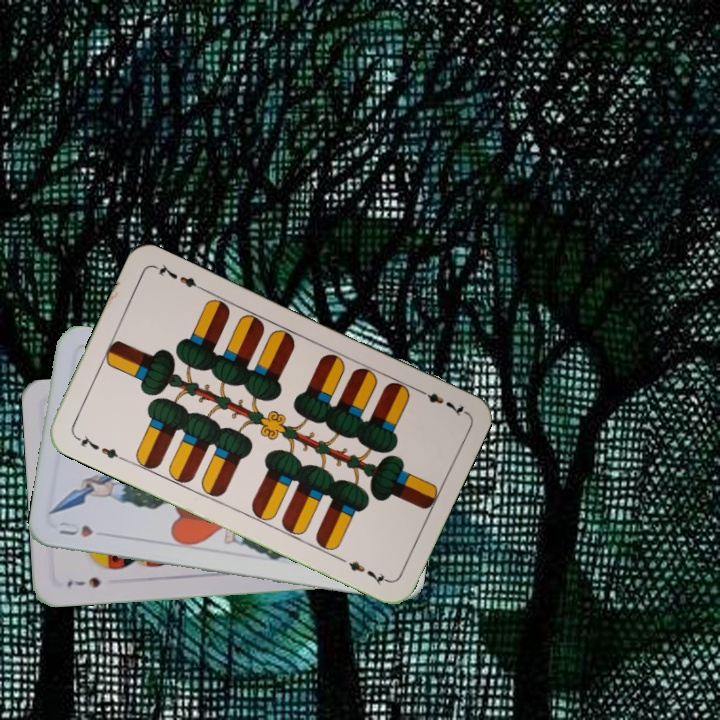E7: (413, 384, 468, 419), (71, 432, 127, 464)
HU: (55, 517, 96, 540)
S7: (63, 573, 103, 590)
